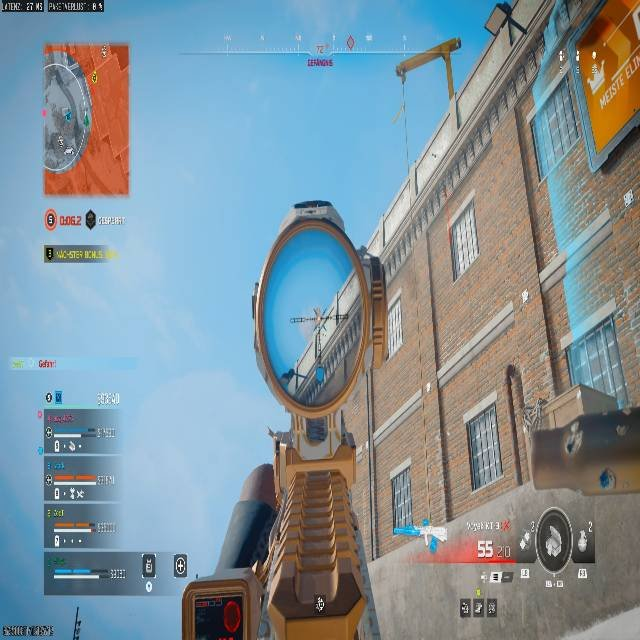head: (200, 0, 638, 571), (249, 202, 394, 414)
